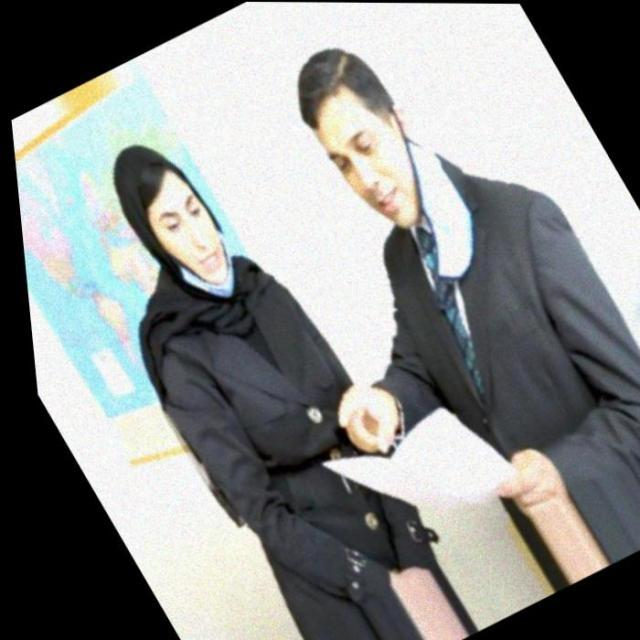hairnet: (312, 98, 494, 298), (135, 185, 246, 309)
